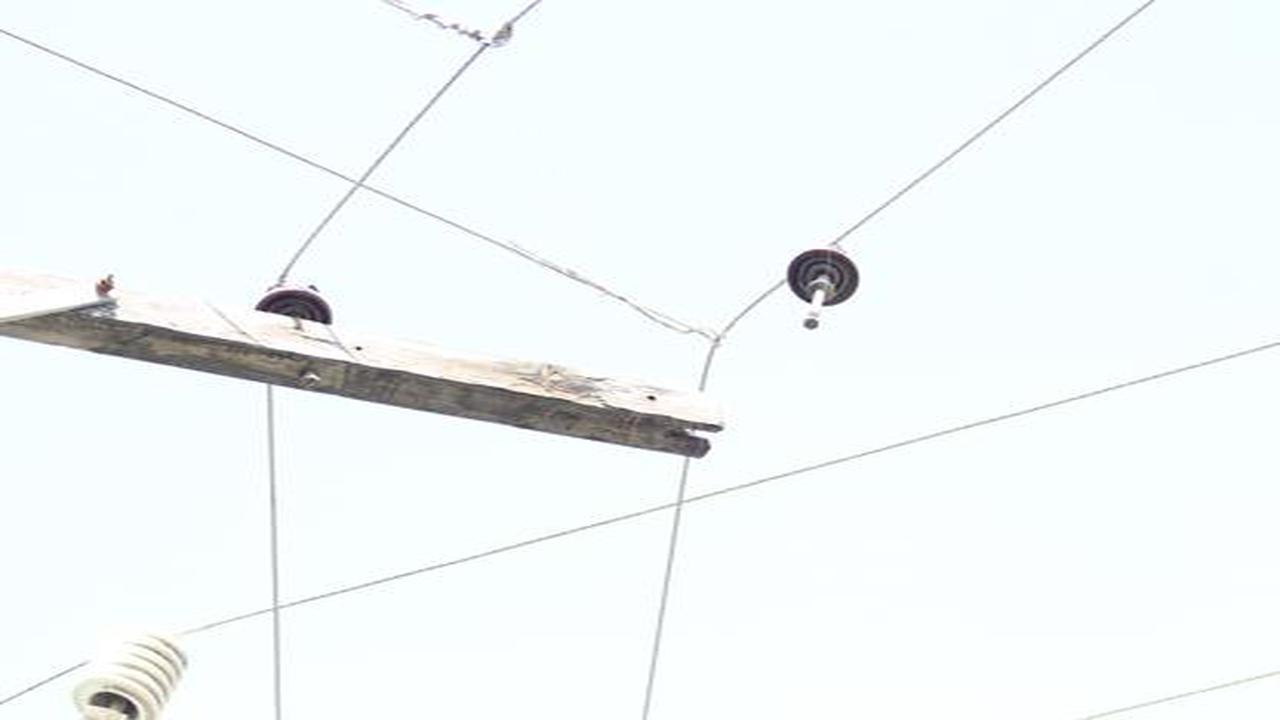insulator_pin: (784, 237, 855, 292), (256, 278, 333, 321)
